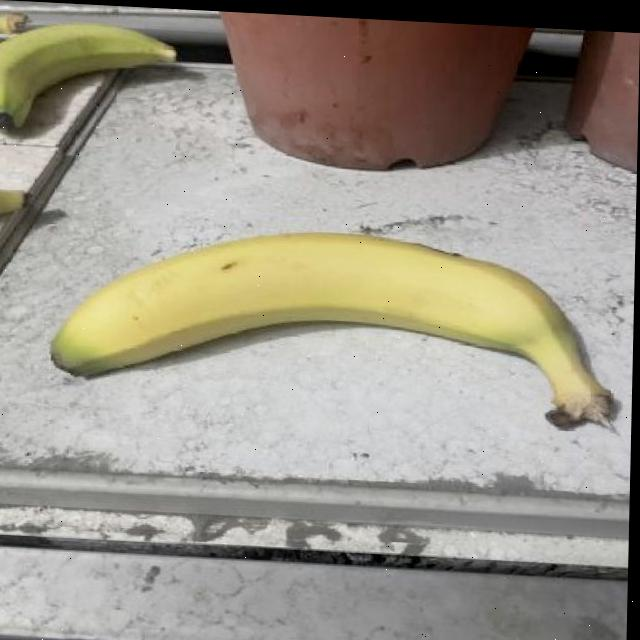banana: (43, 210, 629, 437), (0, 4, 185, 154)
